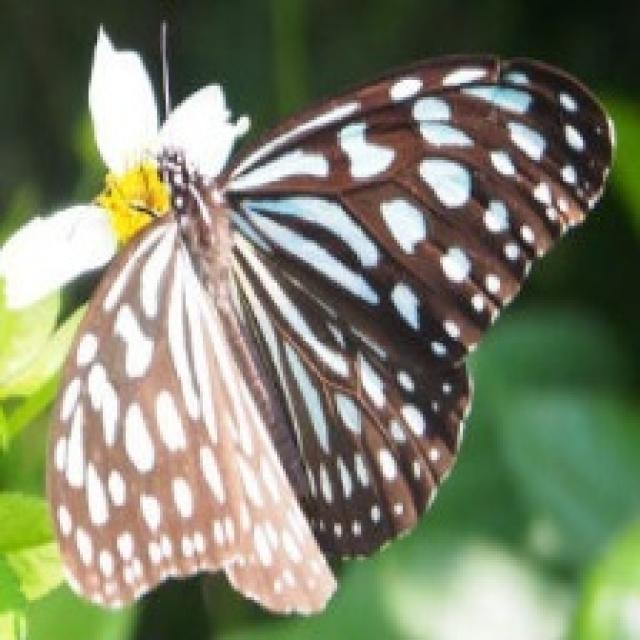butterfly: (26, 14, 617, 617)
